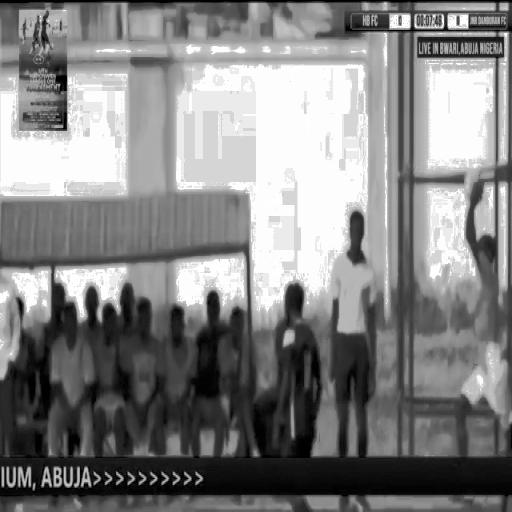ball: (455, 148, 491, 212)
distract: (0, 260, 262, 448)
referee: (328, 196, 382, 463)
team1: (457, 215, 512, 452), (274, 286, 322, 458)
